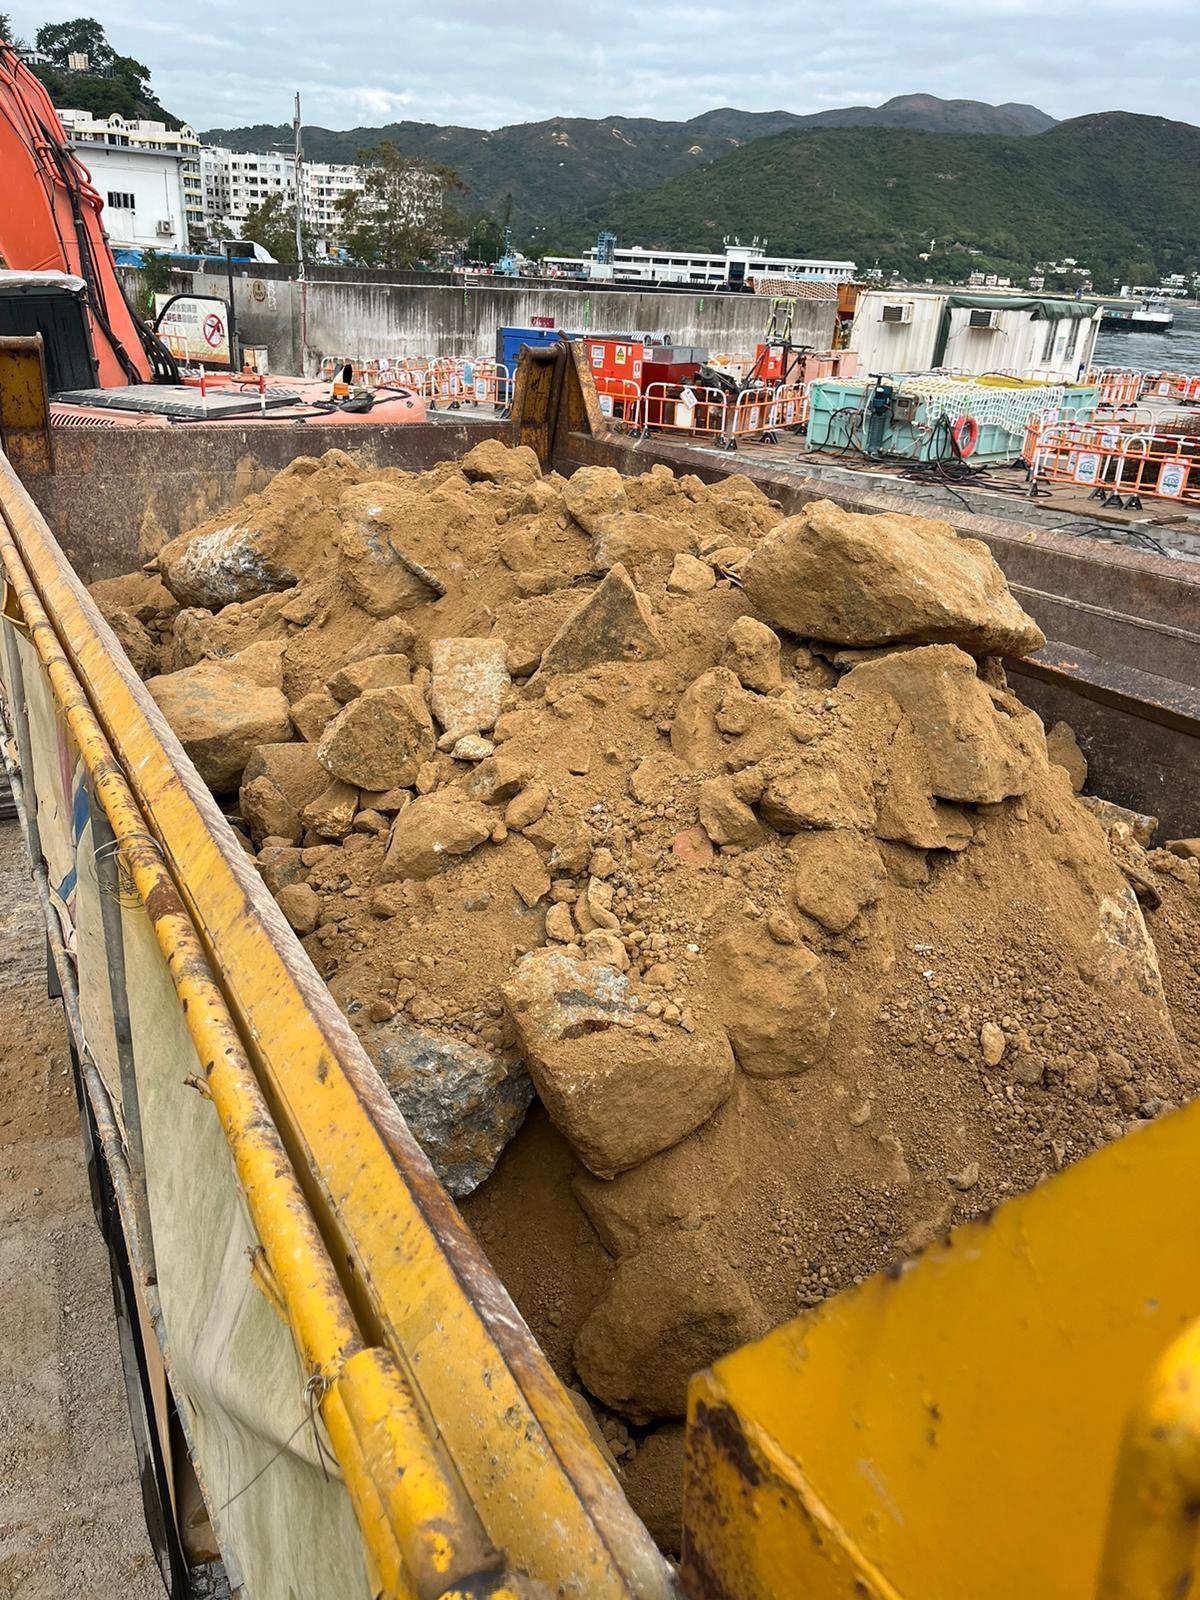dry: (108, 438, 1198, 1418)
